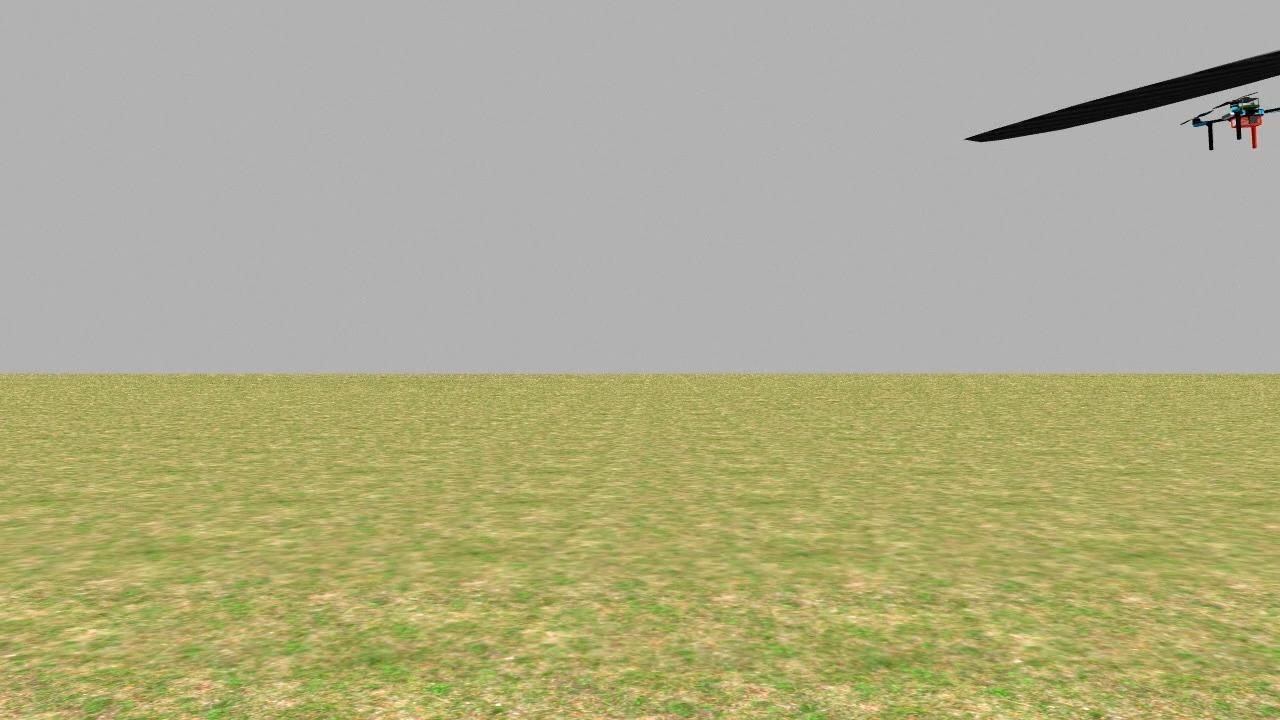UAV: (1179, 86, 1280, 162)
